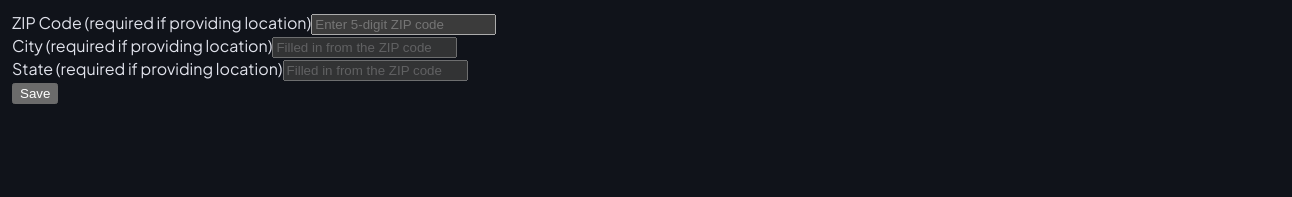
Test: LocationFields › lets the user pick a city when the ZIP code covers several
Type "27703" into the field labelled "ZIP Code (required if providing location)" at {"x": 404, "y": 24}, box [311,14,496,35]
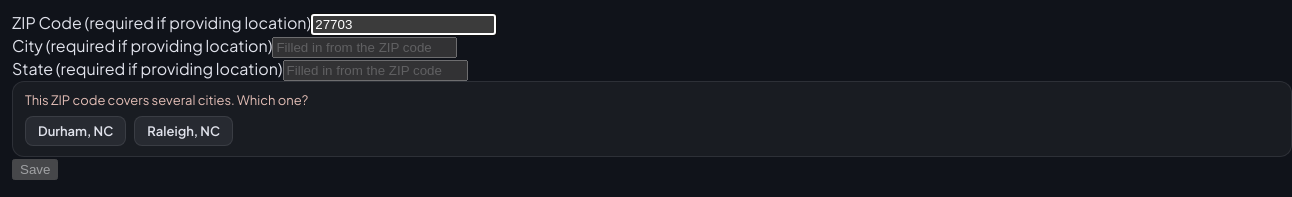
Click the button "Durham, NC" at {"x": 76, "y": 131}, box [25,116,126,146]
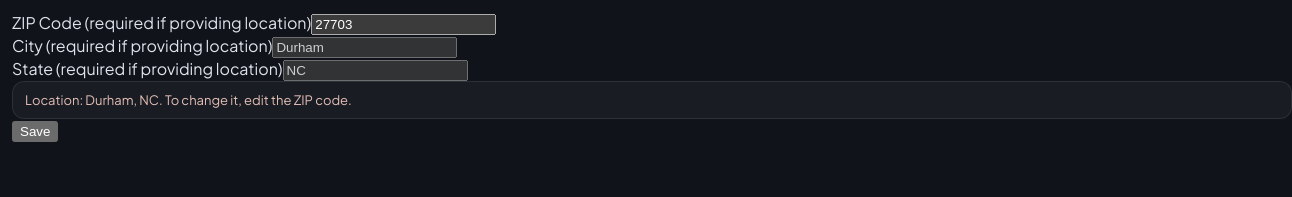
Expected: the field labelled "City (required if providing location)" holds "Durham", [272,37,457,58]
Expected: the field labelled "State (required if providing location)" holds "NC", [283,60,468,81]
Expected: the text "Location: Durham, NC. To change it, edit the ZIP code." is shown, [25,92,352,108]
